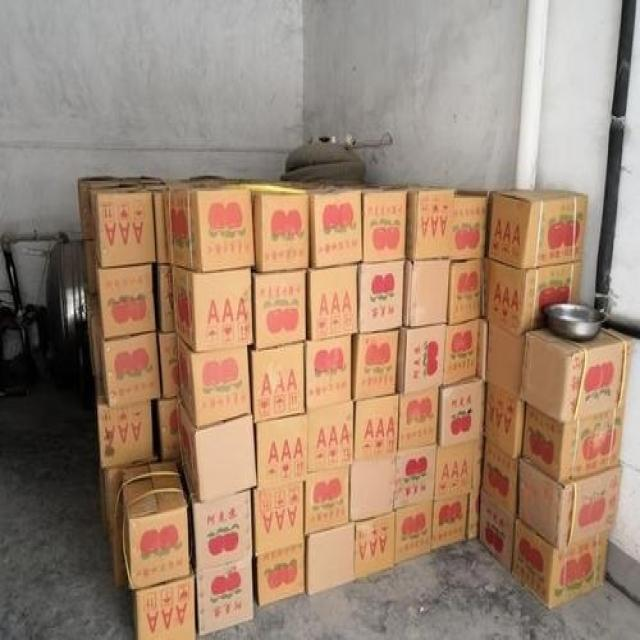box: (518, 328, 632, 423), (518, 457, 623, 551), (511, 517, 608, 609), (122, 461, 189, 589), (486, 189, 589, 270), (521, 403, 623, 483), (177, 401, 257, 503), (164, 188, 255, 273), (183, 466, 252, 573), (485, 259, 582, 335), (172, 266, 253, 353), (177, 335, 251, 428), (91, 188, 155, 268), (100, 329, 161, 408), (96, 259, 155, 340), (97, 382, 152, 468), (196, 558, 255, 637), (252, 195, 310, 271), (252, 341, 305, 423), (252, 270, 306, 350), (310, 189, 364, 268), (133, 575, 196, 640), (252, 481, 305, 556), (307, 263, 358, 340), (99, 466, 131, 587), (256, 415, 307, 490), (406, 186, 456, 259), (306, 522, 355, 596), (397, 324, 447, 394), (305, 335, 351, 411), (352, 329, 399, 401), (307, 401, 353, 474), (403, 259, 451, 328), (362, 188, 406, 263), (305, 466, 351, 536), (358, 261, 403, 331), (257, 543, 305, 608), (351, 452, 396, 521), (438, 377, 481, 449), (486, 321, 526, 398), (485, 382, 525, 459), (477, 492, 515, 573), (394, 442, 438, 510), (355, 393, 399, 461), (481, 439, 518, 517), (353, 512, 394, 580), (398, 387, 439, 451), (451, 191, 489, 259), (443, 319, 480, 386), (447, 259, 485, 324), (434, 440, 475, 500), (396, 502, 434, 563), (431, 492, 470, 550), (156, 399, 182, 461), (156, 333, 179, 399), (154, 263, 175, 331)
